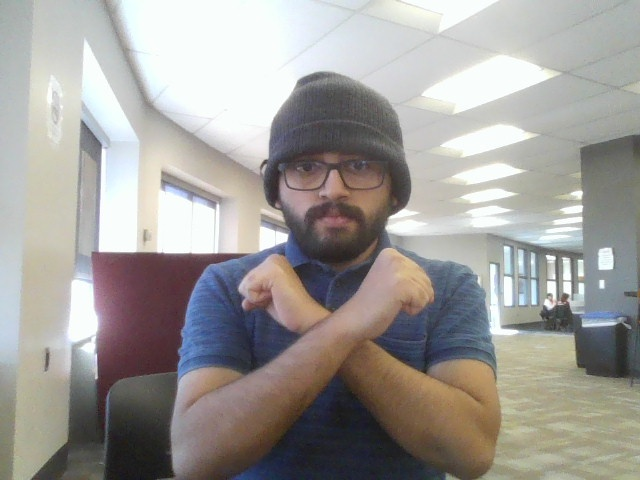start: (219, 247, 470, 452)
